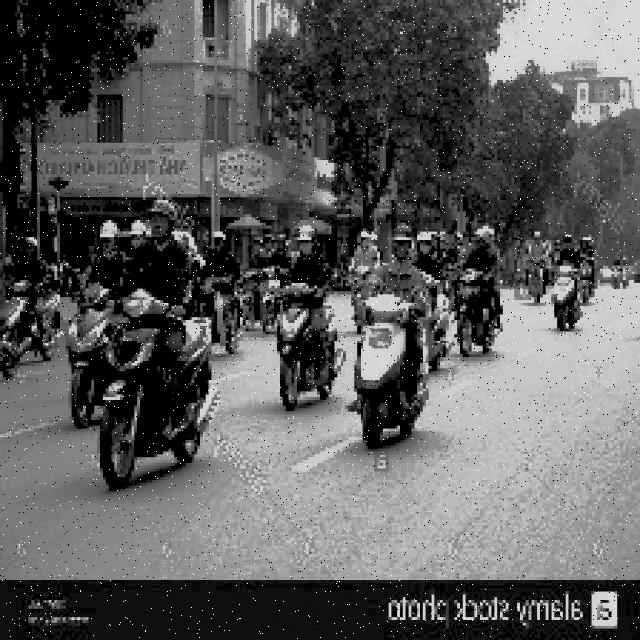Bike: (99, 302, 222, 496), (355, 295, 441, 449), (268, 278, 342, 398), (453, 262, 515, 362), (5, 258, 59, 368)
